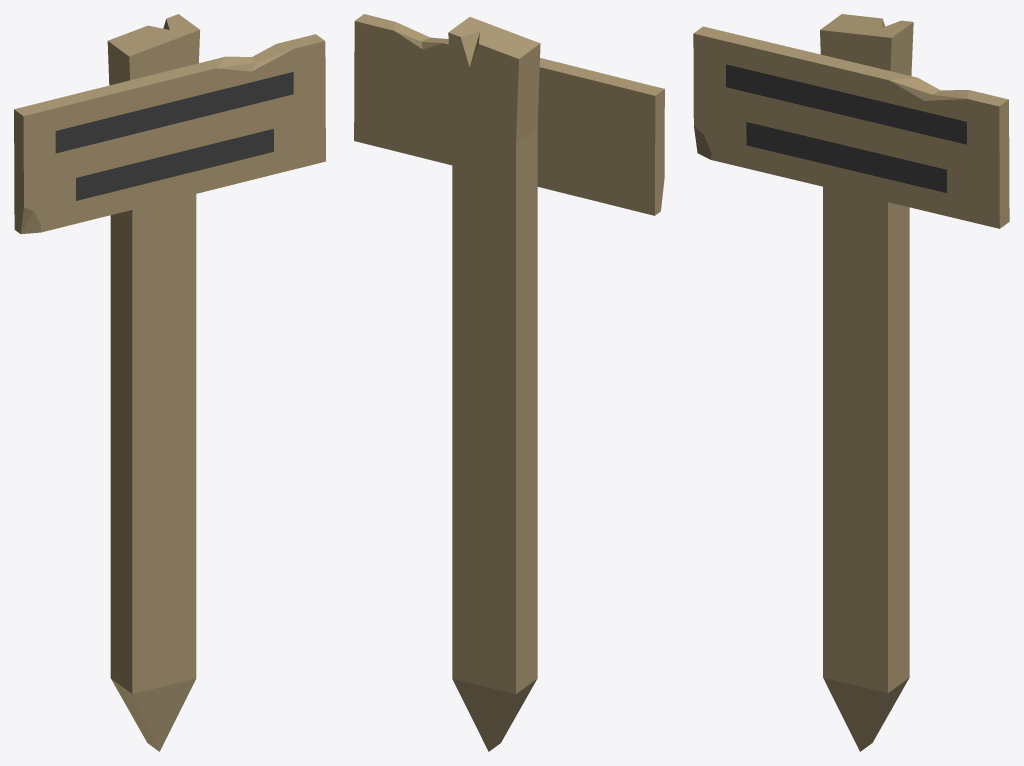
Rendered from SM_Prop_GardenMarker_01.fbx.
3 views of the same model, side by side, from view 1: azimuth 30°, elevation 25°; view 2: azimuth 150°, elevation 25°; view 3: azimuth 330°, elevation 25° (orthographic).
Parts seen in each view (by area): view 1: SM_Prop_GardenMarker_01; view 2: SM_Prop_GardenMarker_01; view 3: SM_Prop_GardenMarker_01.
Boxes of the visible parts, x1=… form: SM_Prop_GardenMarker_01: x1=14, y1=14, x2=325, y2=751; SM_Prop_GardenMarker_01: x1=354, y1=14, x2=664, y2=751; SM_Prop_GardenMarker_01: x1=693, y1=14, x2=1009, y2=751.
Size of the model in its own units: 22.24 by 50.38 by 3.97.
